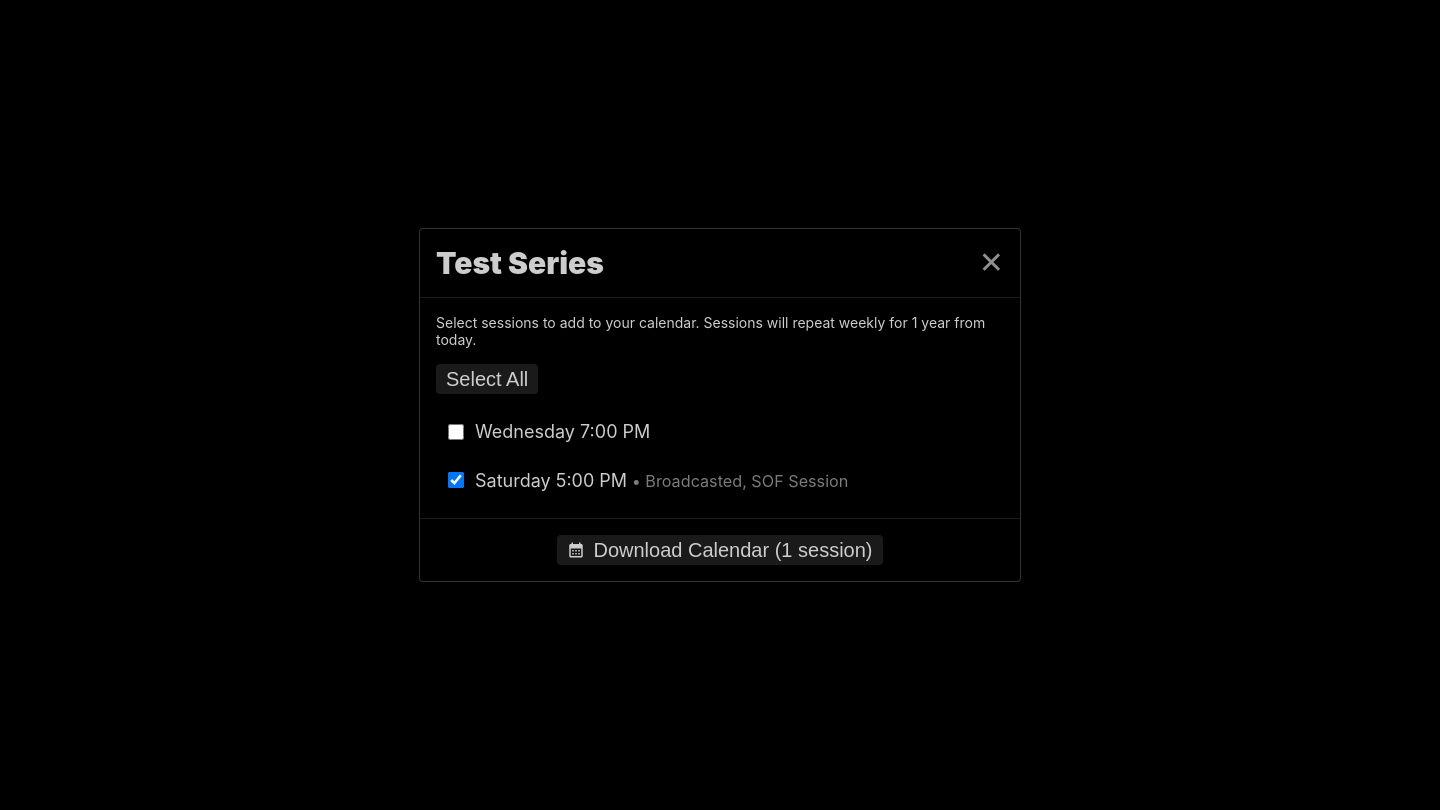
Test case: CalendarModal interactions › Select All checks every session
The image size is (1440, 810).
Click the button "Select All".
click(487, 379)  # box [436,364,538,394]
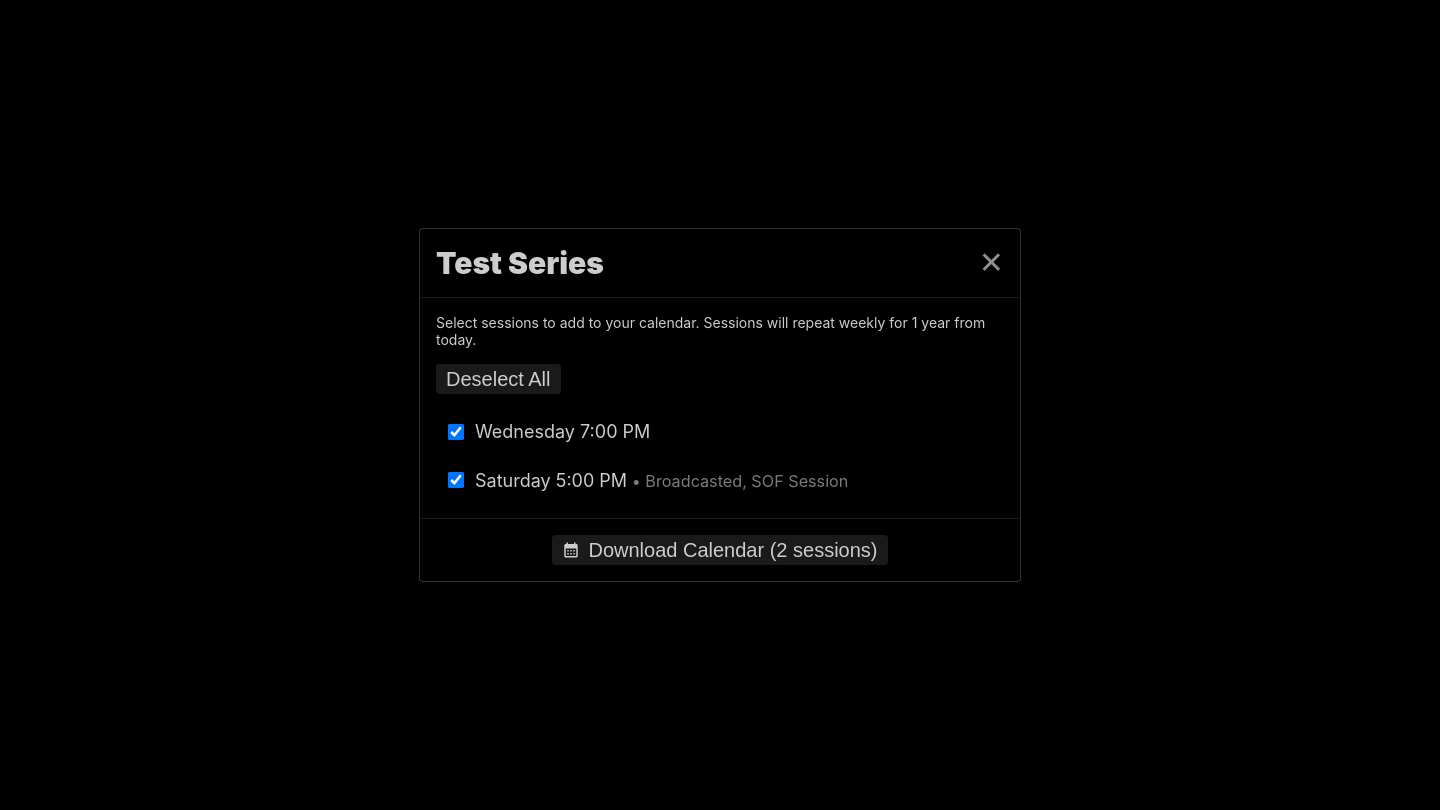
Check: the checkbox labelled "Saturday 5:00 PM • Broadcasted, SOF Session" is checked, box [448,472,464,488]
Check: the checkbox labelled "Wednesday 7:00 PM" is checked, box [448,424,464,440]
